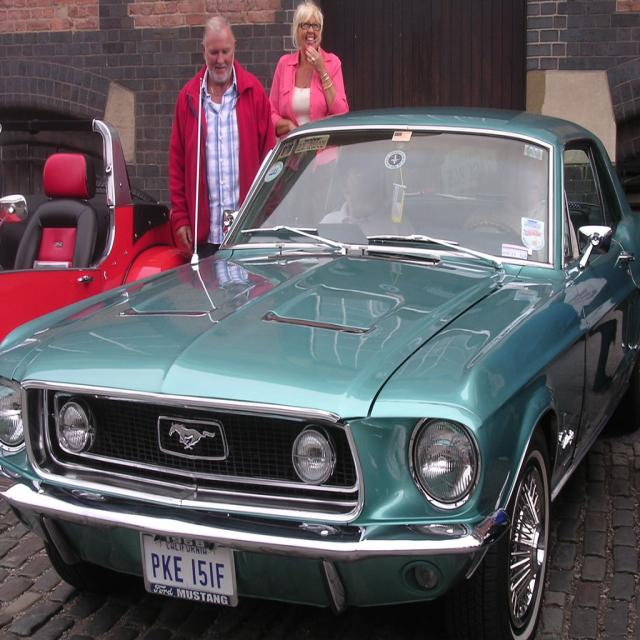car: (0, 99, 639, 639)
